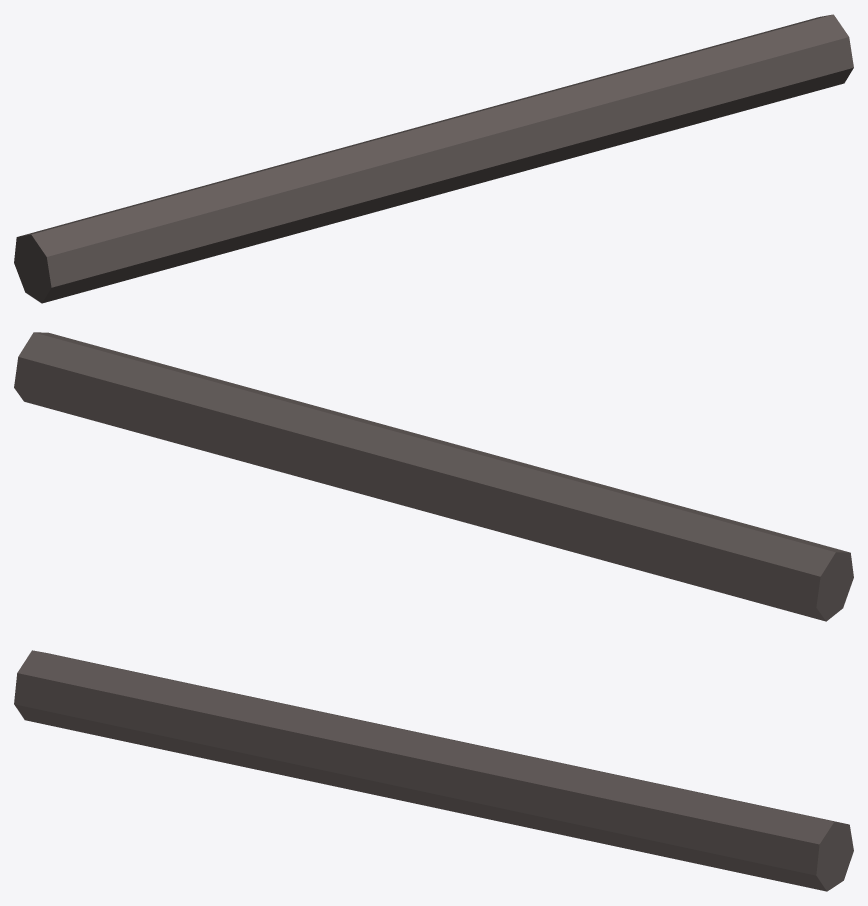
Rendered from Hammak wall big nail.fbx.
3 renders of one model, top to bottom at view 1: azimuth 30°, elevation 25°; view 2: azimuth 150°, elevation 25°; view 3: azimuth 330°, elevation 25°, orthographic.
Visible parts, largest first — view 1: Hammak wall big nail; view 2: Hammak wall big nail; view 3: Hammak wall big nail.
Boxes of the visible parts, bbox=[...] form: Hammak wall big nail: bbox=[14, 14, 853, 303]; Hammak wall big nail: bbox=[14, 332, 853, 621]; Hammak wall big nail: bbox=[14, 650, 853, 891].
Bounding box in the file's own units: 55.62 × 5.84 × 4.51.
